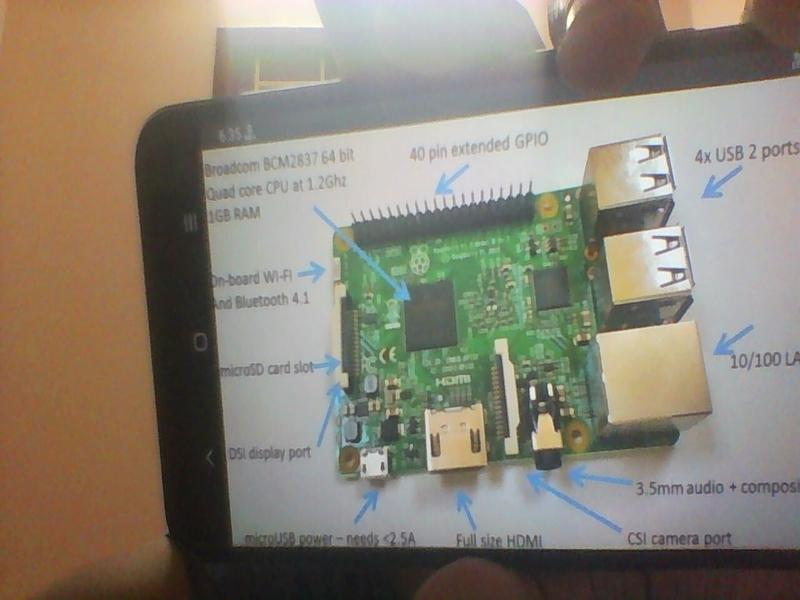aud: (522, 374, 564, 473)
eth: (585, 326, 715, 425)
usb: (593, 229, 701, 306), (579, 136, 682, 210)
